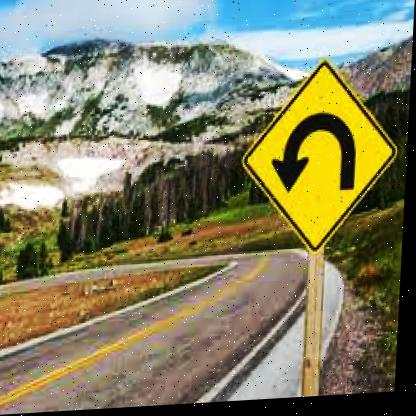U-turn: (244, 62, 402, 261)
